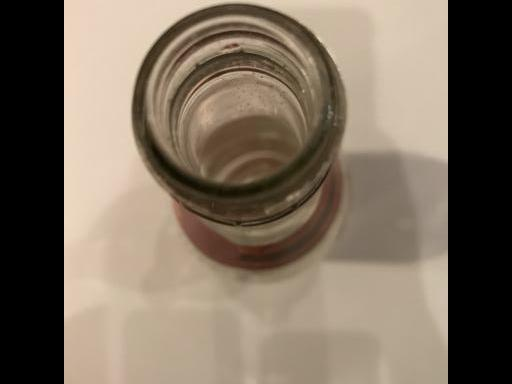glass: (129, 1, 347, 271)
sodocalcique: (129, 1, 347, 271)
